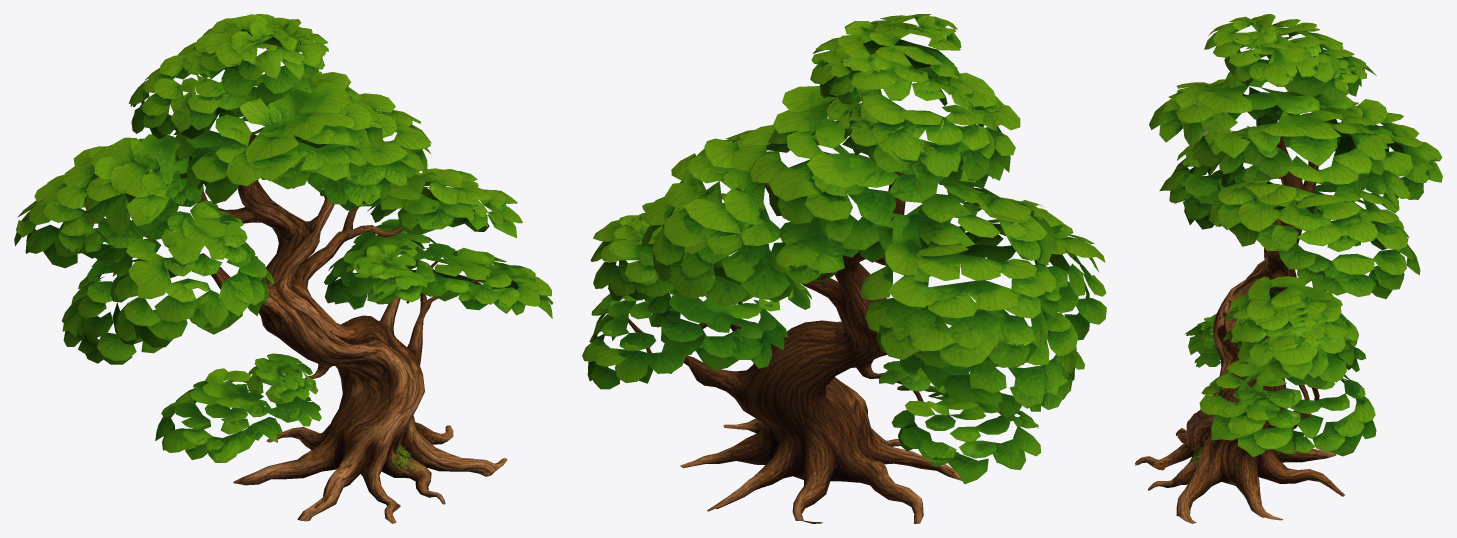
Rendered from stylized+tree+3d+model.glb.
3 renders of one model, left to right at view 1: azimuth 30°, elevation 25°; view 2: azimuth 150°, elevation 25°; view 3: azimuth 270°, elevation 25°, orthographic. The views are drawn at different scales.
Parts seen in each view (by area): view 1: tripo_node_29fd7e11-b39a-4d59-a50f-b138ab6152cc; view 2: tripo_node_29fd7e11-b39a-4d59-a50f-b138ab6152cc; view 3: tripo_node_29fd7e11-b39a-4d59-a50f-b138ab6152cc.
Part boxes in pixels (bbox=[...]): tripo_node_29fd7e11-b39a-4d59-a50f-b138ab6152cc: bbox=[14, 14, 553, 523]; tripo_node_29fd7e11-b39a-4d59-a50f-b138ab6152cc: bbox=[582, 14, 1106, 523]; tripo_node_29fd7e11-b39a-4d59-a50f-b138ab6152cc: bbox=[1135, 14, 1442, 523].
Size of the model in its own units: 0.9995 by 0.9497 by 0.6313.
1 material, 1 textured.
